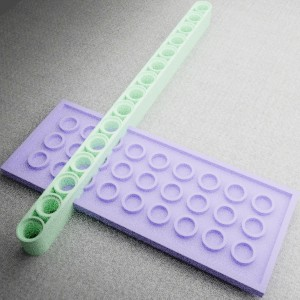lego: (0, 98, 299, 298), (16, 1, 211, 255)
